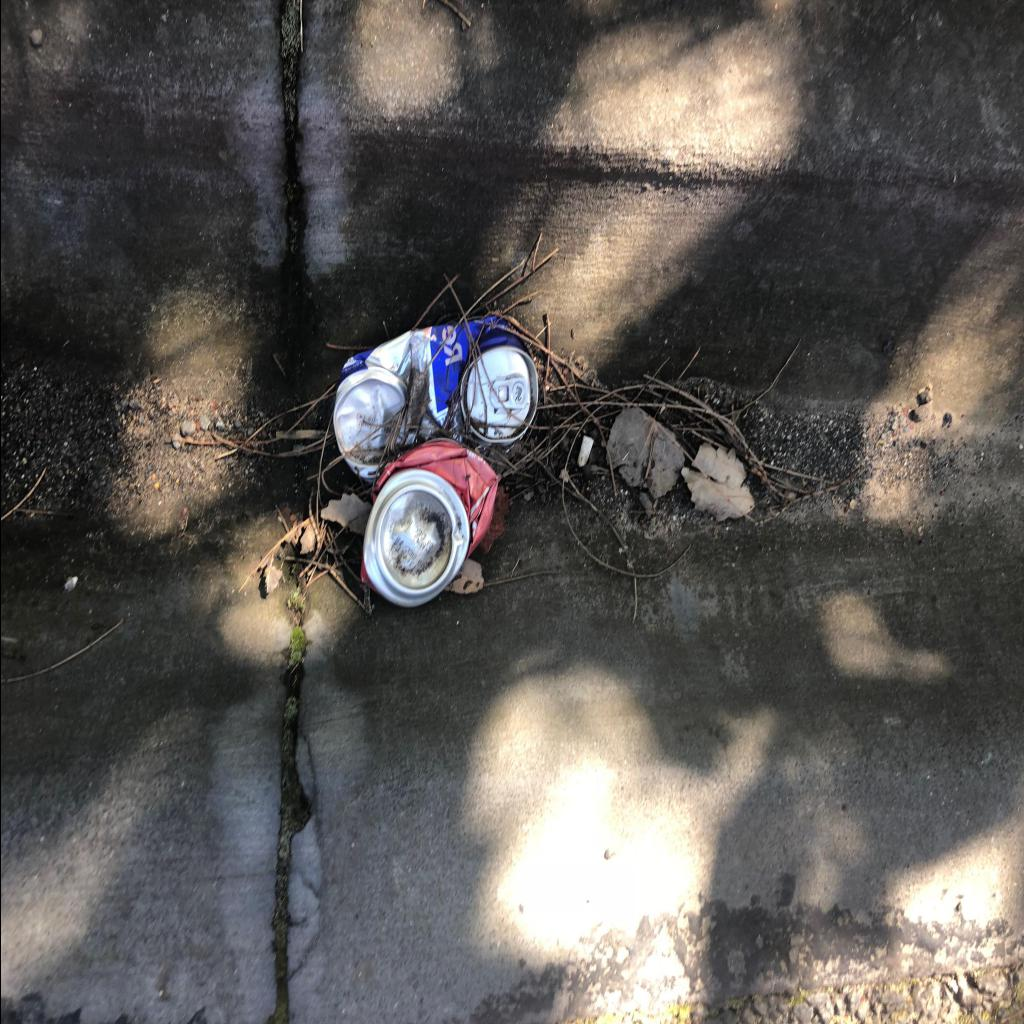Cigarette: (576, 436, 593, 466)
Drink can: (332, 316, 536, 484), (360, 439, 498, 607)
Pop tab: (490, 377, 528, 409)
